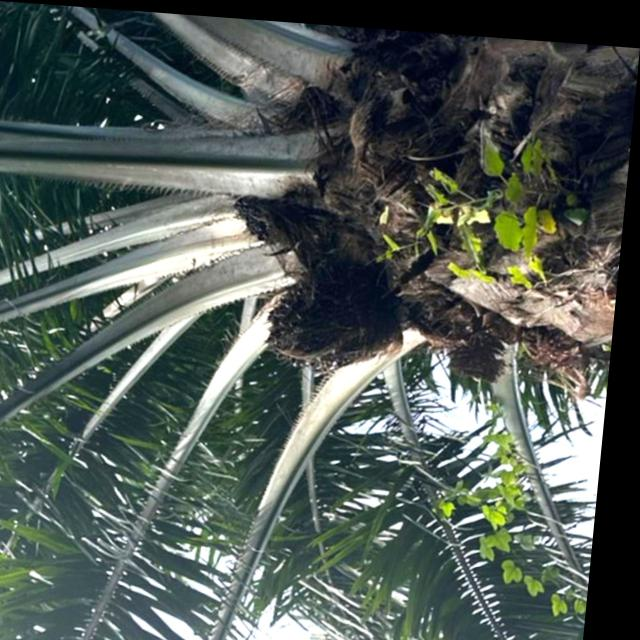ripe: (256, 232, 418, 371)
